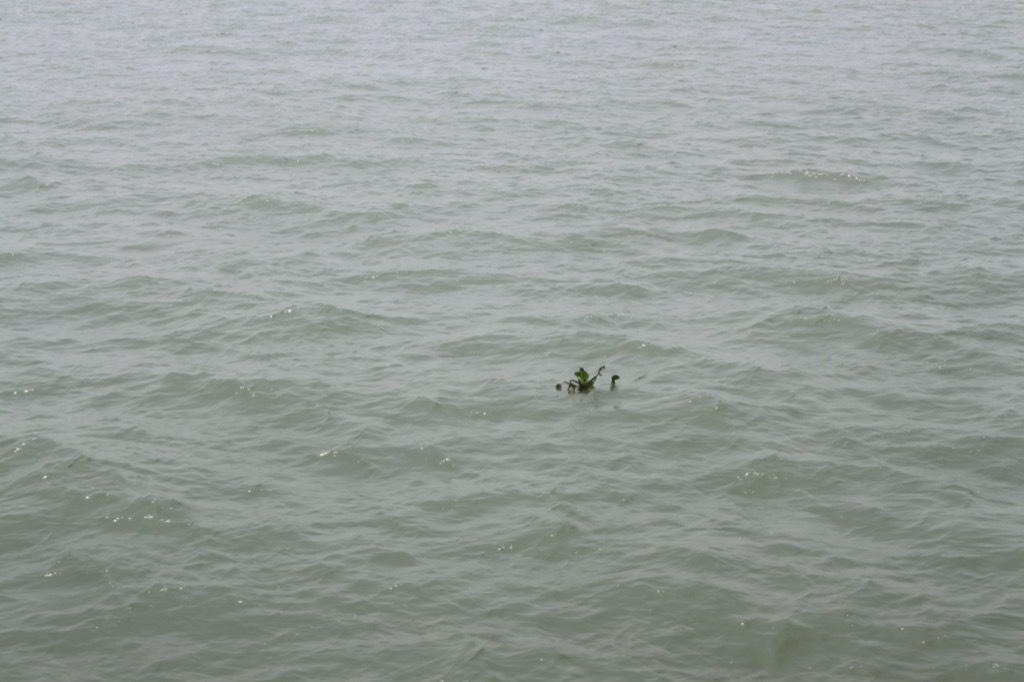organic: (547, 353, 629, 417)
